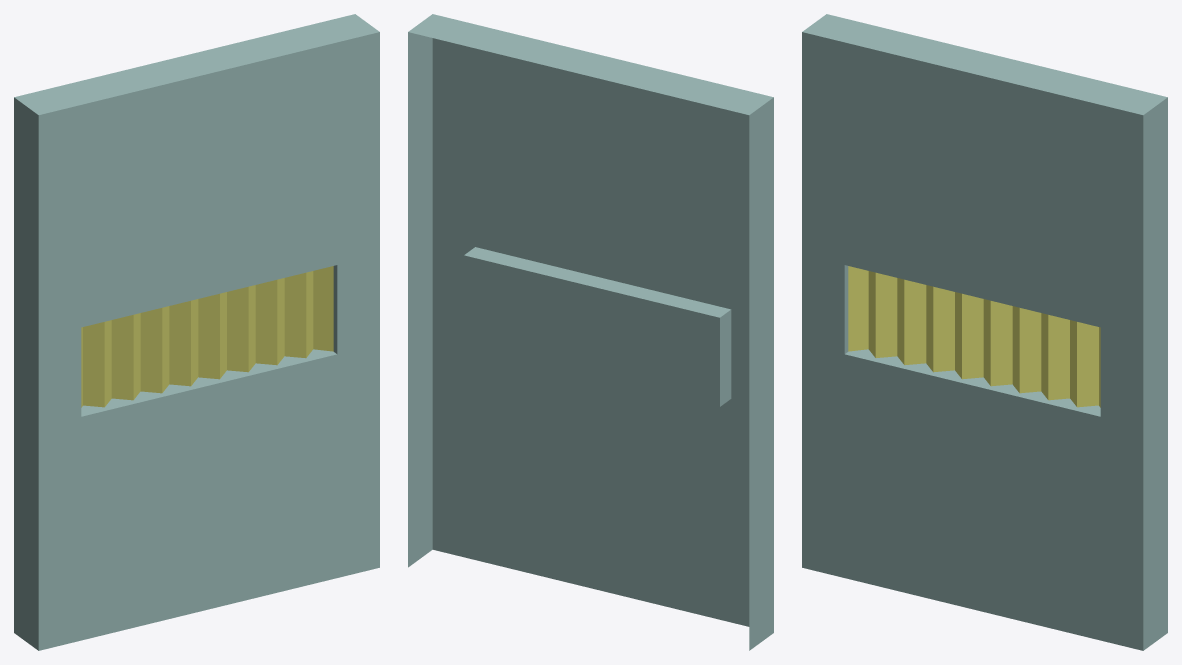
Rendered from BWall.fbx.
3 views of the same model, side by side, from view 1: azimuth 30°, elevation 25°; view 2: azimuth 150°, elevation 25°; view 3: azimuth 330°, elevation 25° (orthographic).
Visible parts, largest first — view 1: BWall; view 2: BWall; view 3: BWall.
Boxes of the visible parts, x1,y1,x2,y2 form: BWall: [14, 14, 379, 650]; BWall: [408, 14, 773, 650]; BWall: [802, 14, 1167, 650].
Size of the model in its own units: 400 by 600 by 50.
